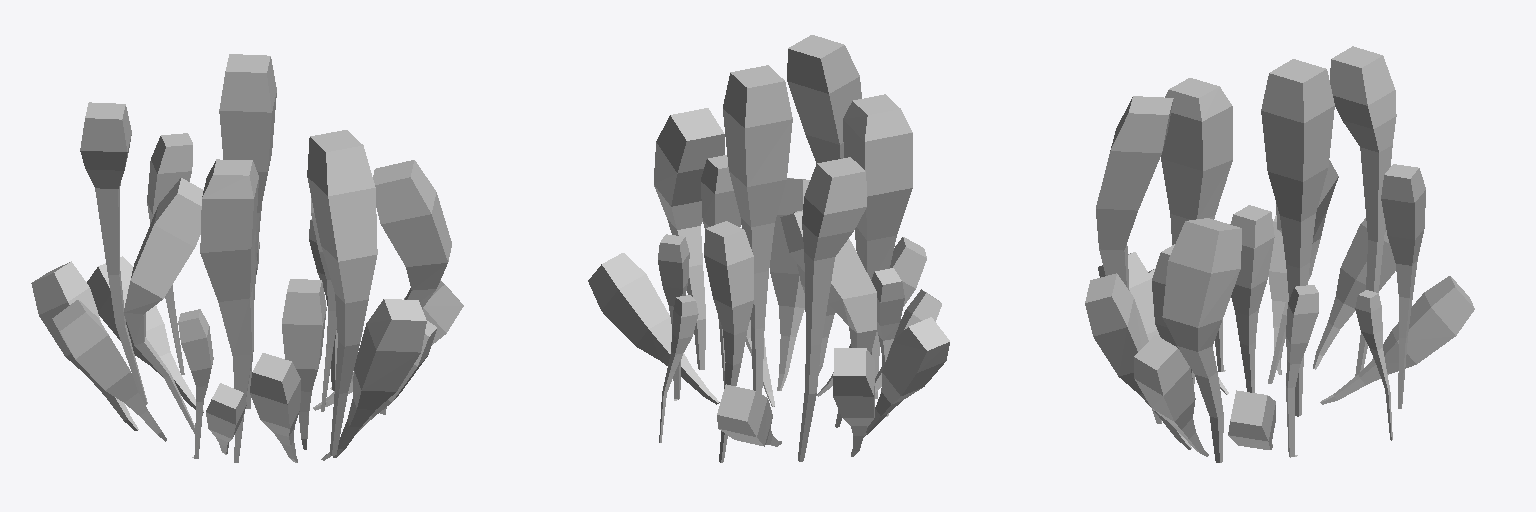
The model's file is kelp 4.obj.
3 renders of one model, left to right at view 1: azimuth 30°, elevation 25°; view 2: azimuth 150°, elevation 25°; view 3: azimuth 270°, elevation 25°, orthographic.
Parts seen in each view (by area): view 1: node_id67; view 2: node_id67; view 3: node_id67.
Boxes of the visible parts, x1,y1,x2,y2 form: node_id67: [31, 54, 463, 462]; node_id67: [588, 35, 949, 462]; node_id67: [1085, 46, 1474, 462].
Bounding box in the file's own units: 2.78 × 2.6 × 2.48.